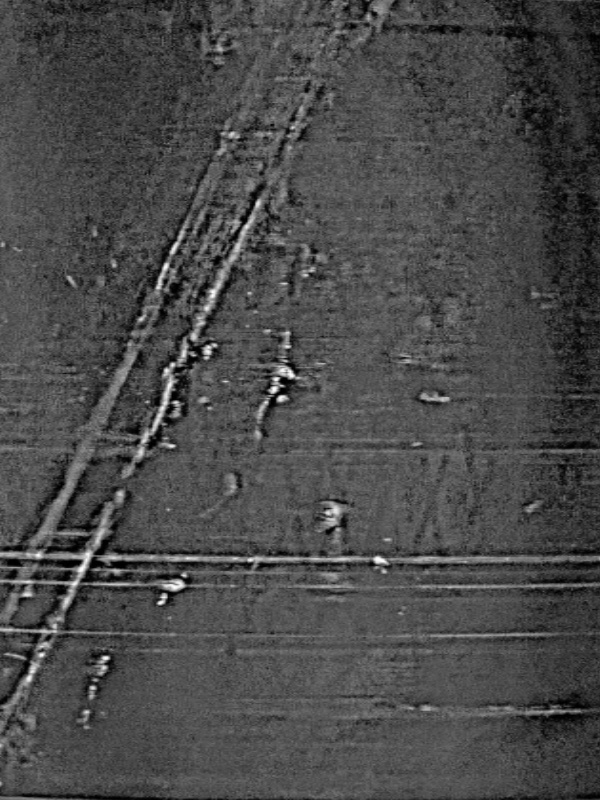splice_vulcanized: (1, 1, 376, 753)
